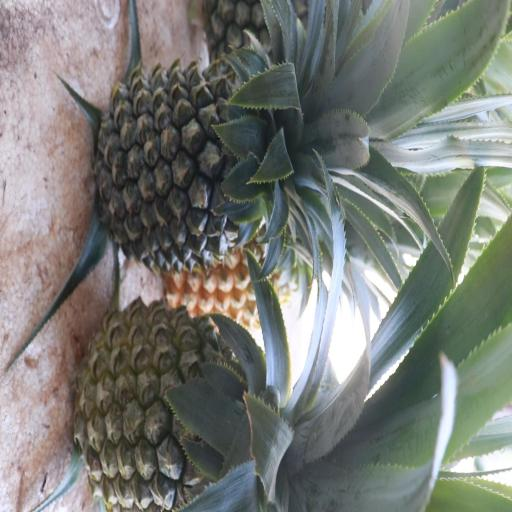------------------------------: (84, 311, 286, 512)
